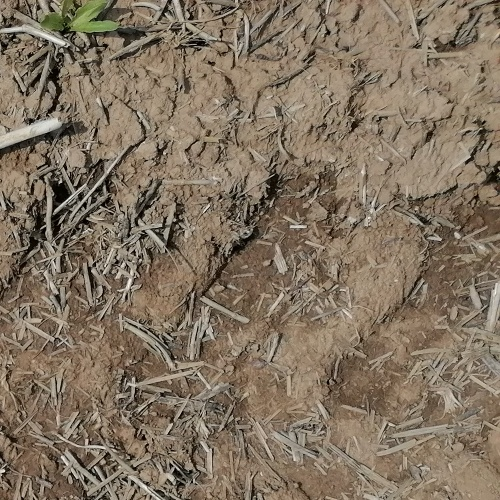beet: (38, 0, 121, 35)
